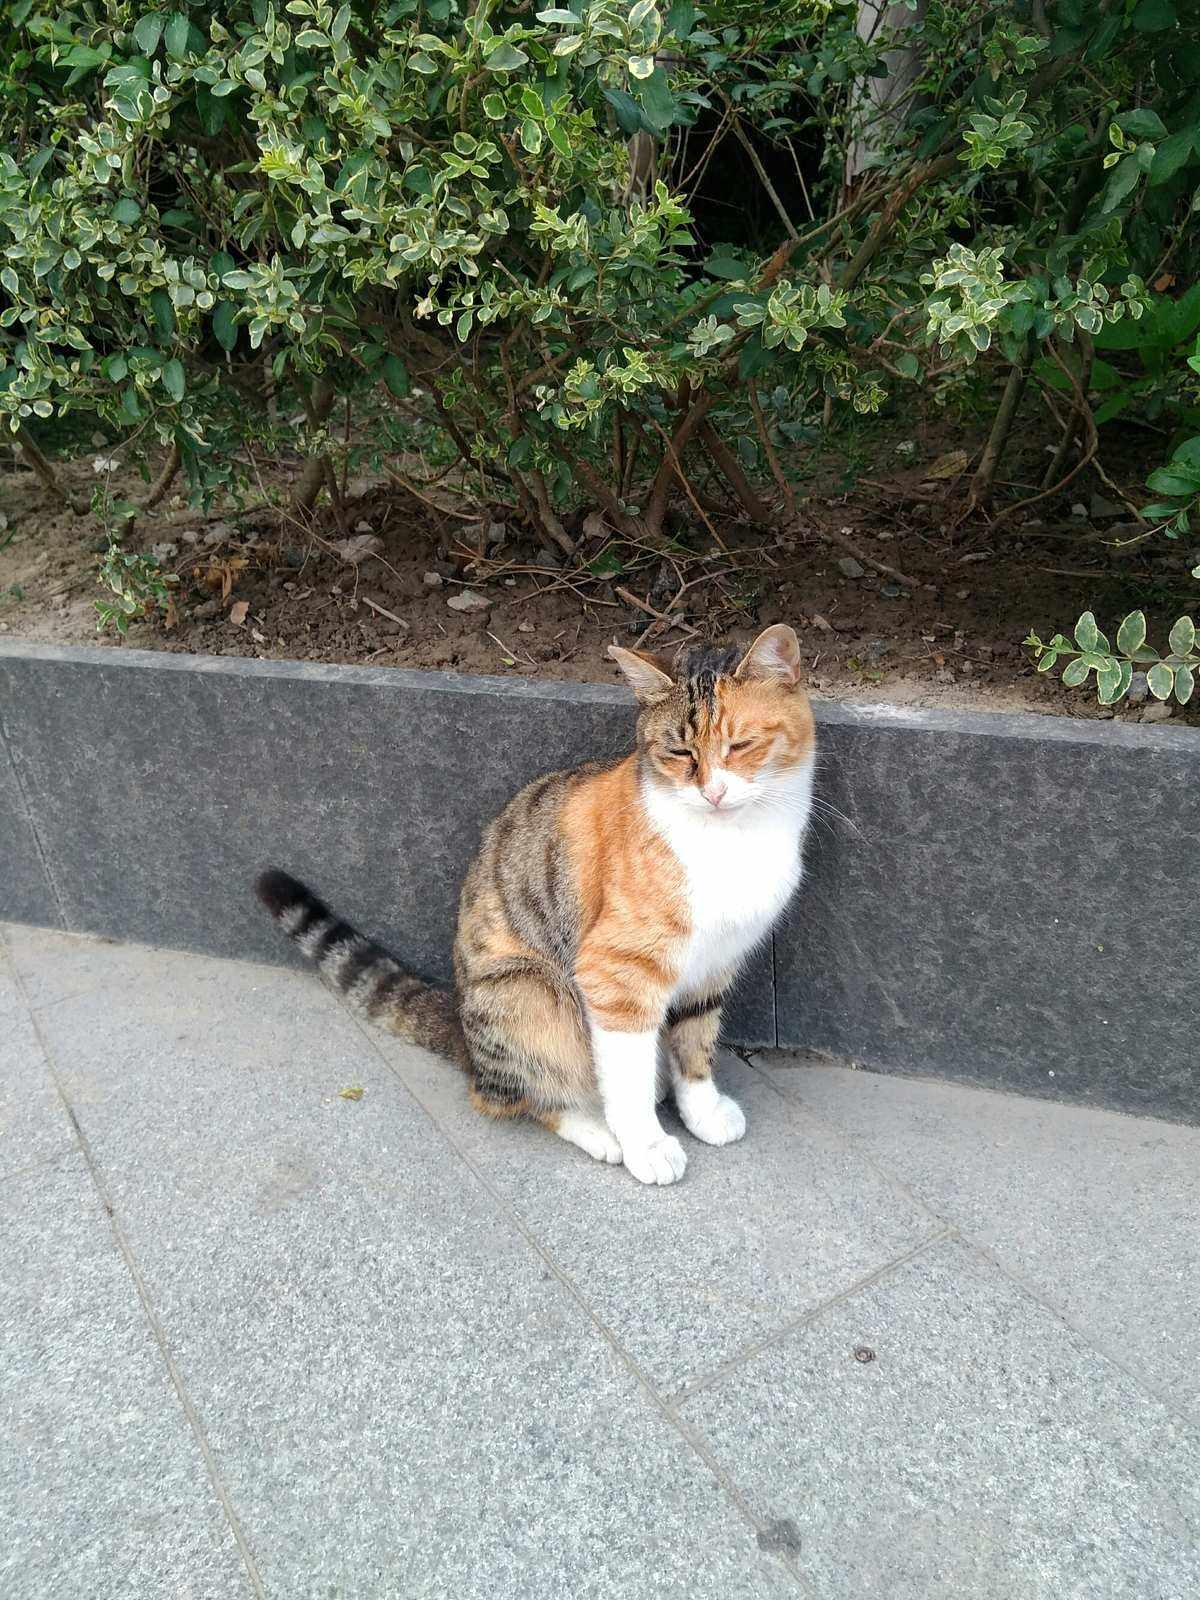cat: (250, 621, 821, 1186)
